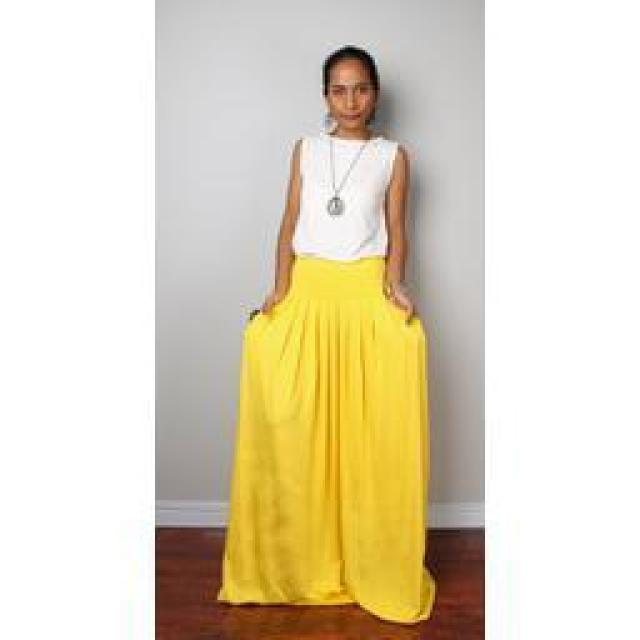Tshirt: (292, 134, 396, 261)
skirt: (216, 254, 439, 624)
